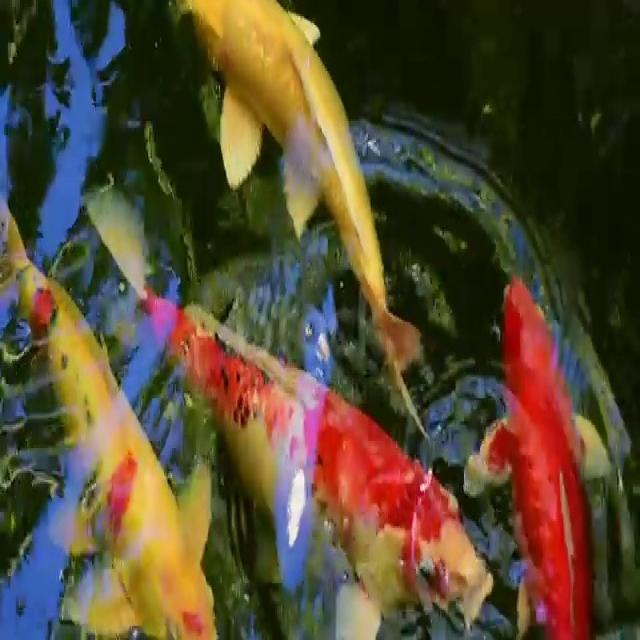fish: (173, 0, 450, 401), (194, 307, 491, 636), (1, 224, 214, 640), (497, 255, 600, 640)
